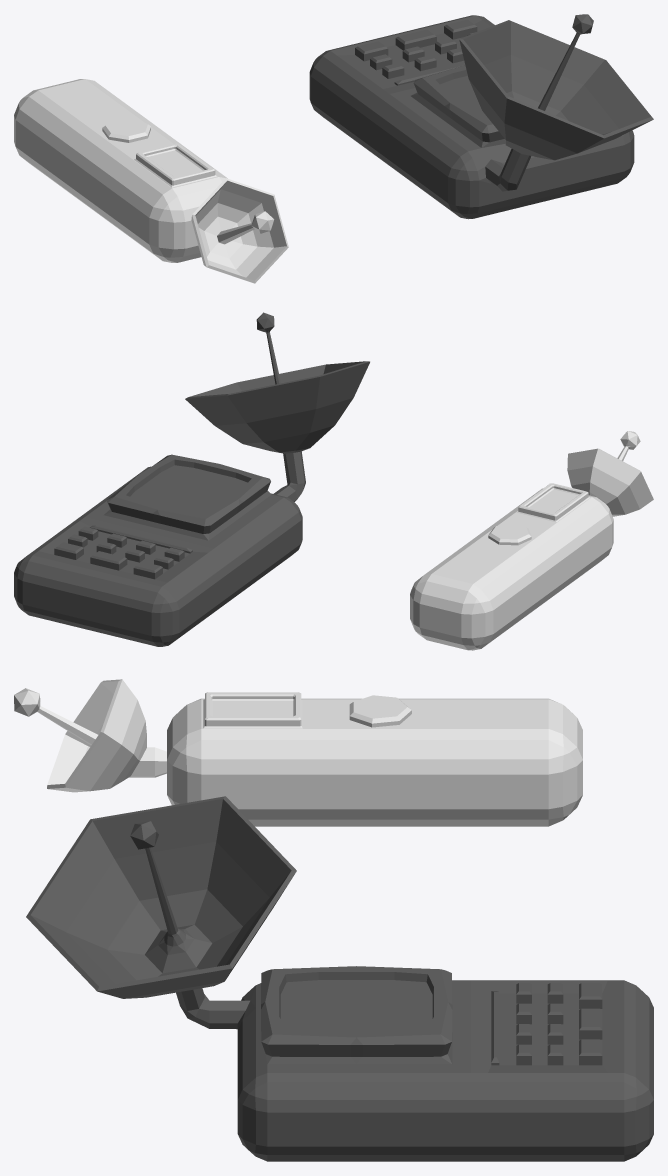
Rendered from GameAssetsPrey.glb.
The picture shows the model from 3 angles, top to bottom: view 1: azimuth 30°, elevation 25°; view 2: azimuth 150°, elevation 25°; view 3: azimuth 270°, elevation 25°; orthographic projection. The views are drawn at different scales.
Parts seen in each view (by area): view 1: Cube, Cube.001; view 2: Cube, Cube.001; view 3: Cube, Cube.001.
Boxes of the visible parts, x1=… form: Cube: x1=309, y1=14, x2=653, y2=219; Cube.001: x1=14, y1=79, x2=288, y2=283; Cube: x1=14, y1=312, x2=369, y2=646; Cube.001: x1=410, y1=431, x2=653, y2=650; Cube: x1=26, y1=796, x2=653, y2=1161; Cube.001: x1=14, y1=679, x2=582, y2=826.
Size of the model in its own units: 5.51 by 2.3 by 4.61.
1 material, 1 textured.
